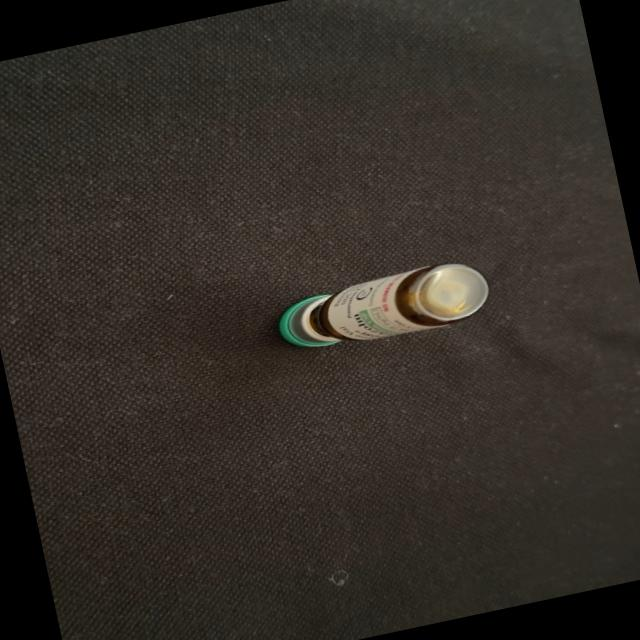midazolm: (274, 255, 490, 358)
